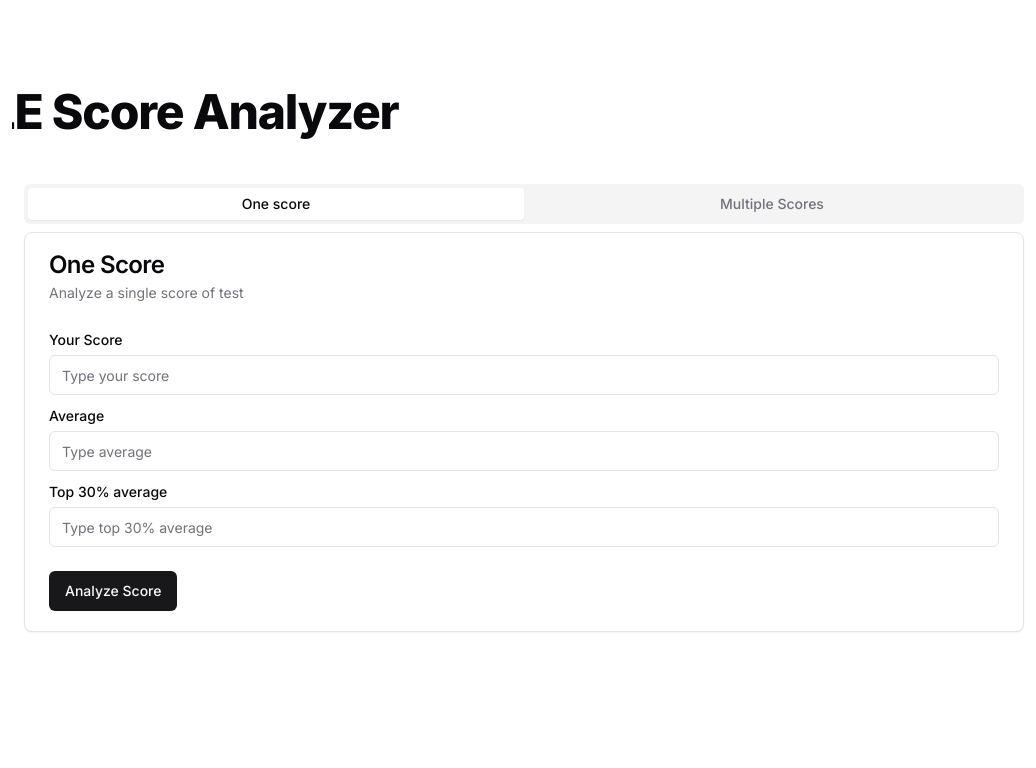
Test case: ILE Score Analyzer › should show error if score is not provided
The image size is (1036, 768).
Type "85" into the number field with id "average" at (524, 451), box [49,431,999,471]
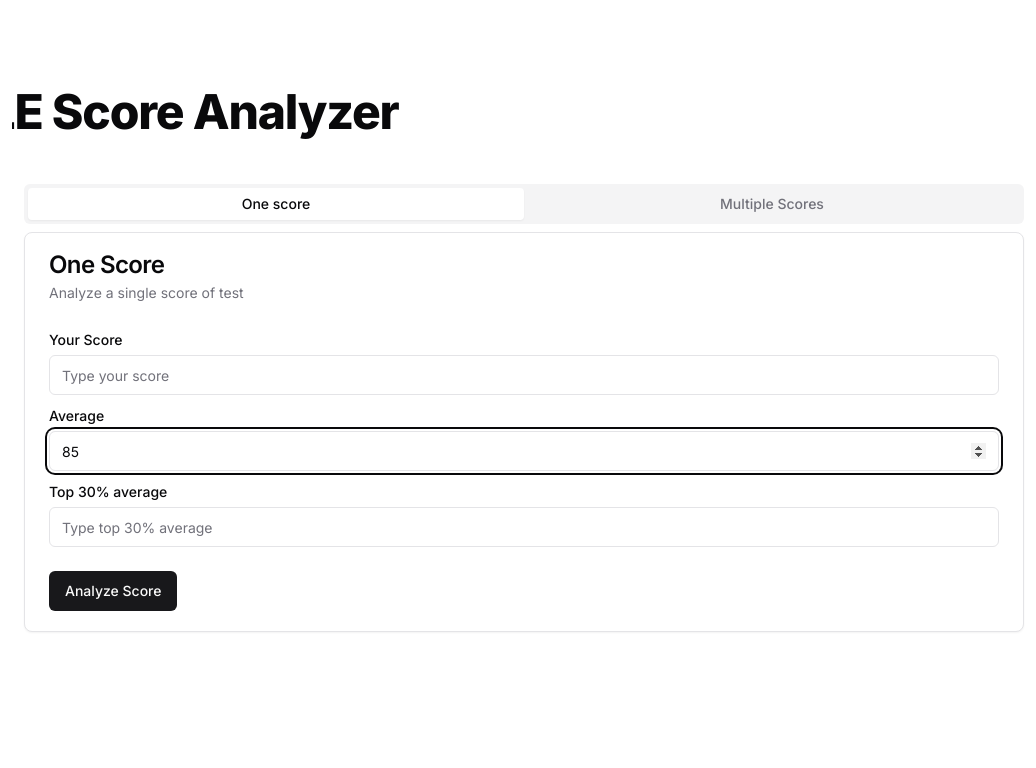
Type "90" into the number field labelled "Top 30% average" at (524, 527), box [49,507,999,547]
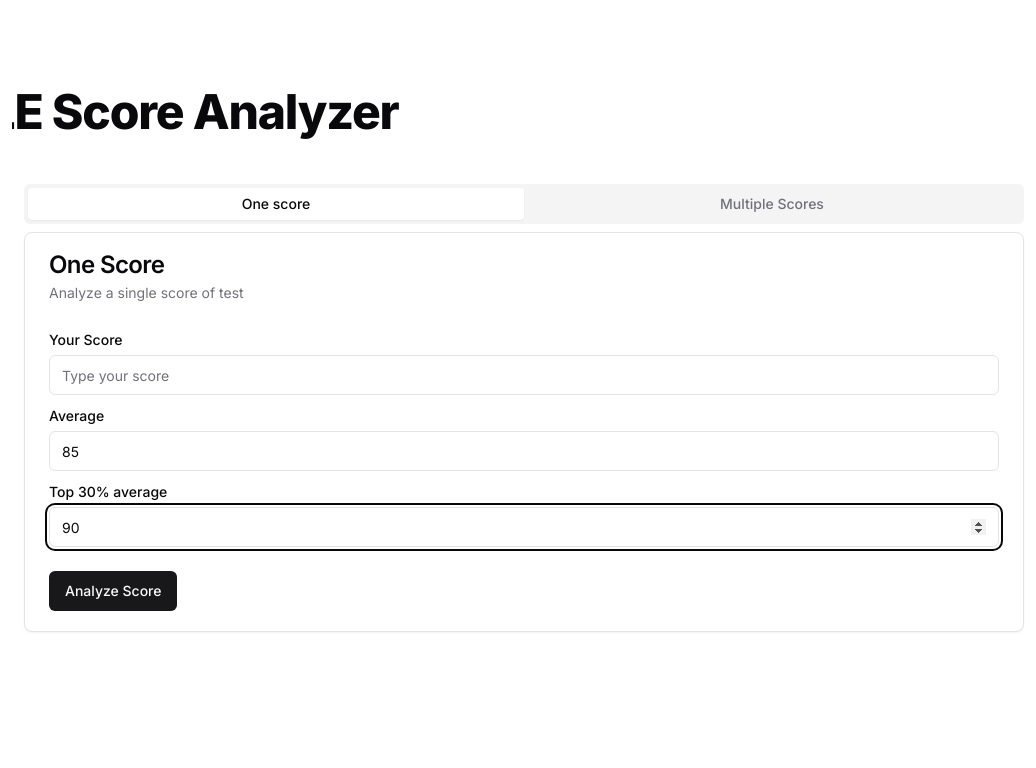
Click the button "Analyze Score" at (114, 591), box [49,571,178,611]
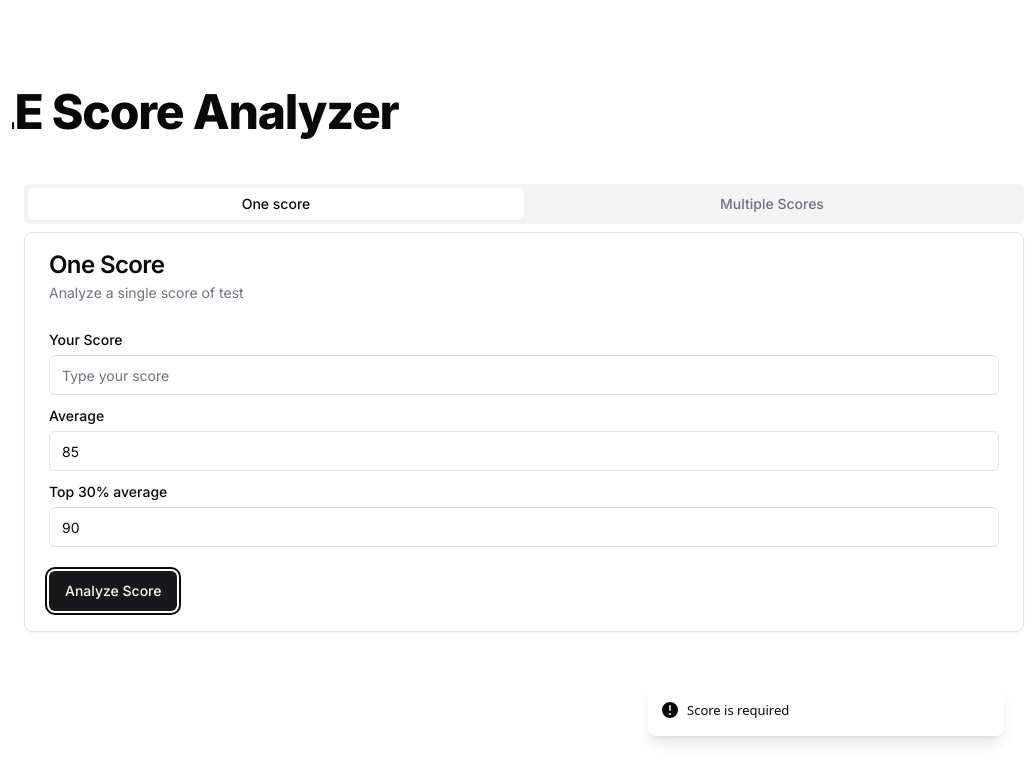
Result: the text "Score is required" is shown at [687,700,789,720]
